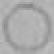no answer: (3, 2, 52, 53)
